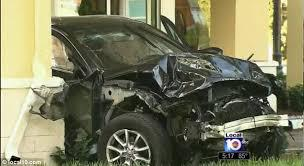bonnet-dent: (120, 51, 258, 87)
front-bumper-dent: (181, 89, 265, 139)
